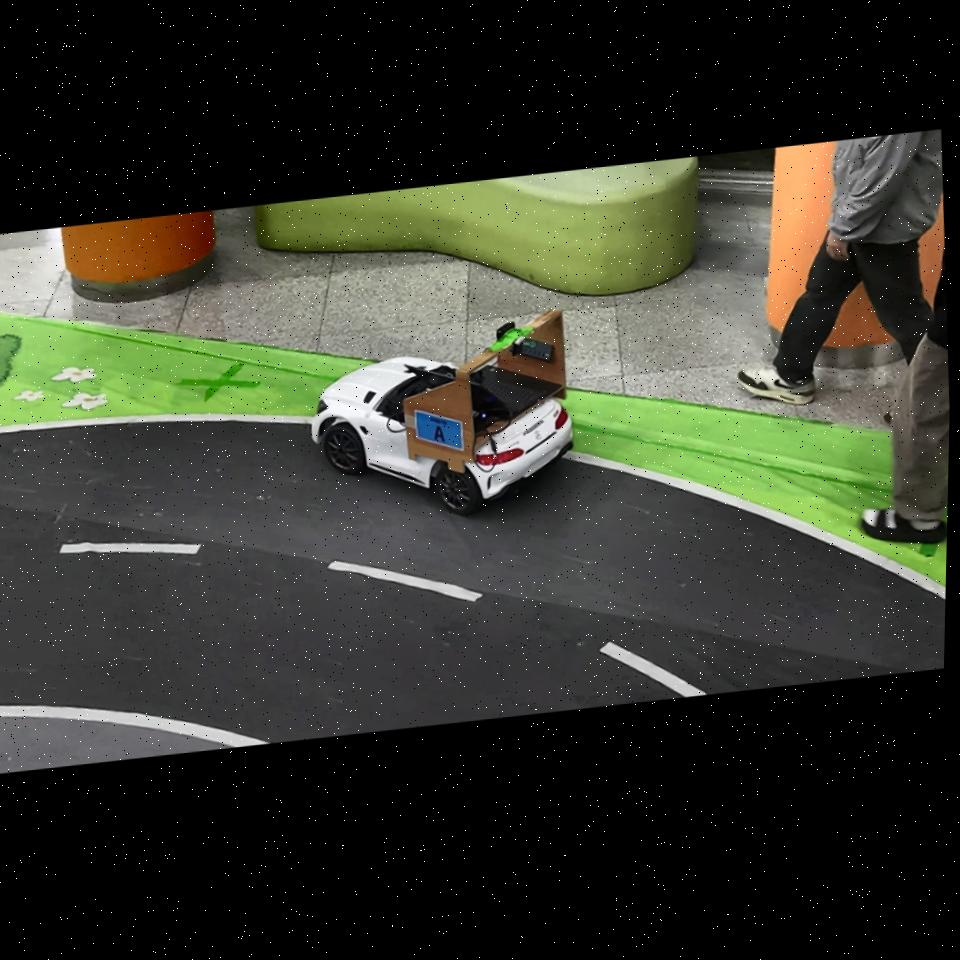broken_line: (327, 561, 483, 602), (599, 642, 707, 697), (59, 542, 202, 555)
